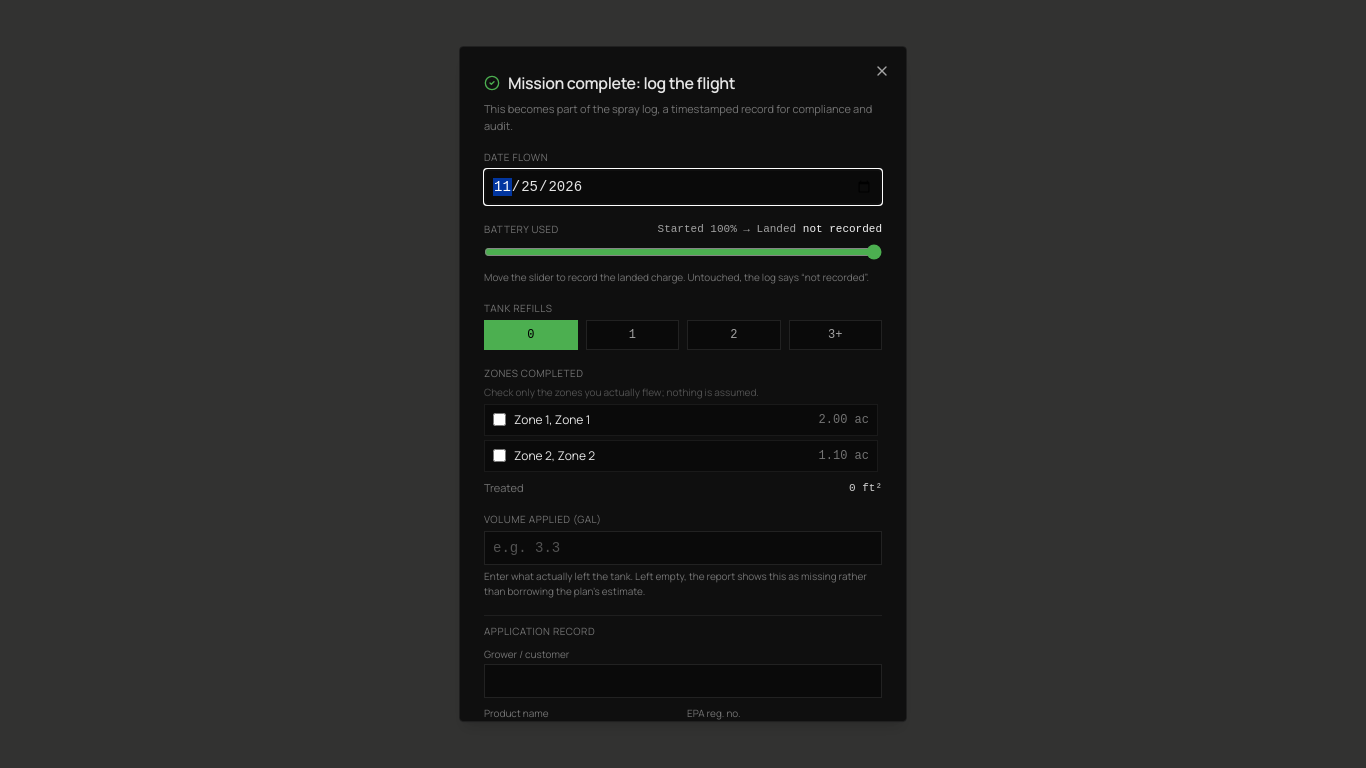
Test: when nothing persists, nothing claims to › insert fails AND the fallback fails: explicit Not saved, values kept, no success toast
Type "4.4" into the number field with placeholder "e.g. 3.3".
click(683, 548); type("4.4")  # box x1=484 y1=531 x2=882 y2=565
(page scrolled)
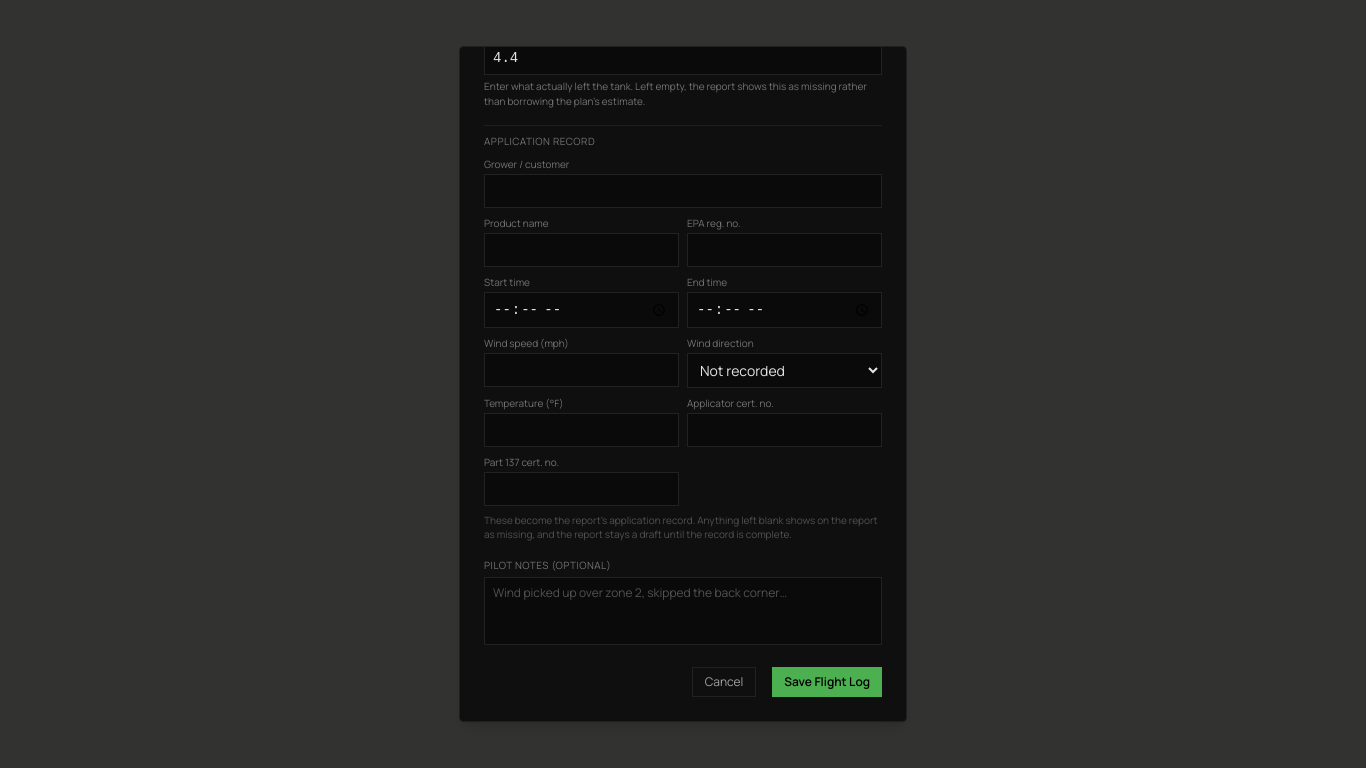
Click the button "Save Flight Log".
click(827, 682)  # box x1=772 y1=667 x2=882 y2=697
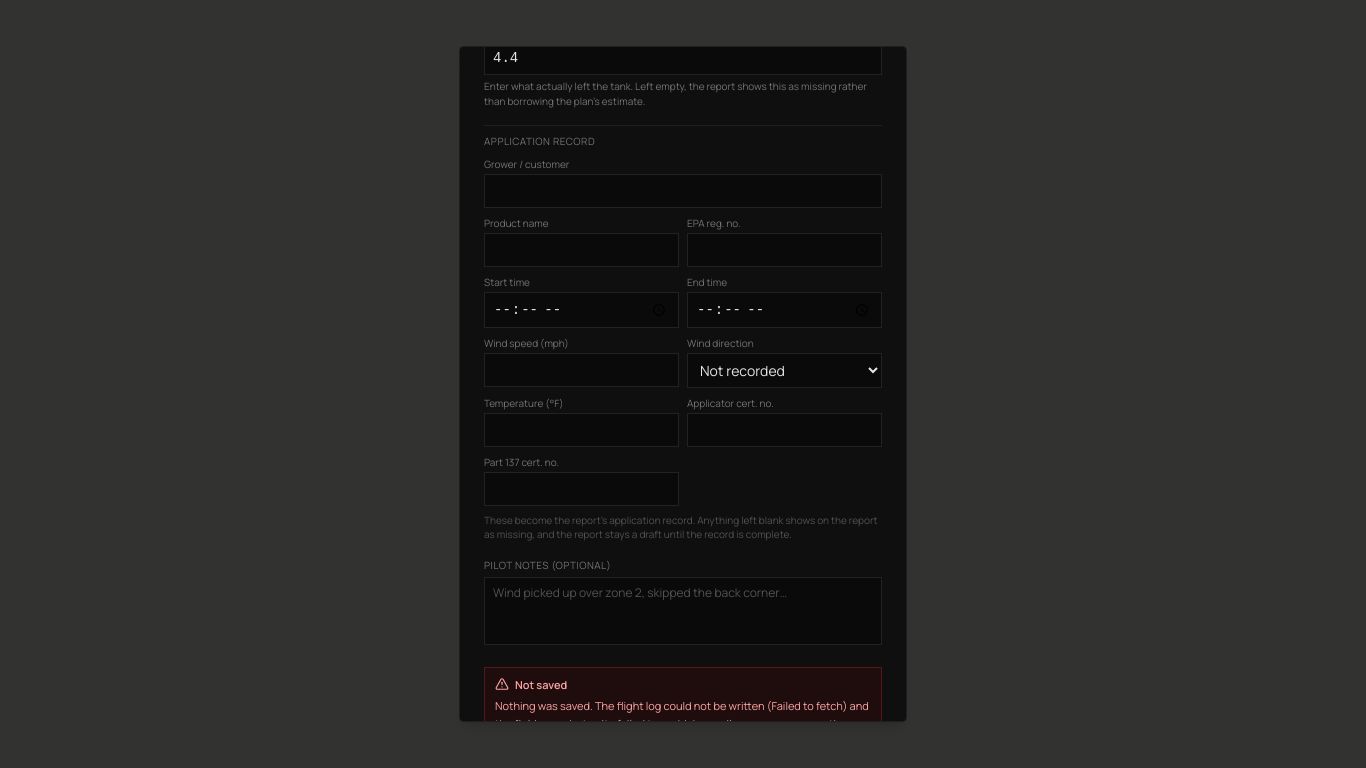
Now the text "Not saved" is shown, box x1=495 y1=677 x2=567 y2=692
